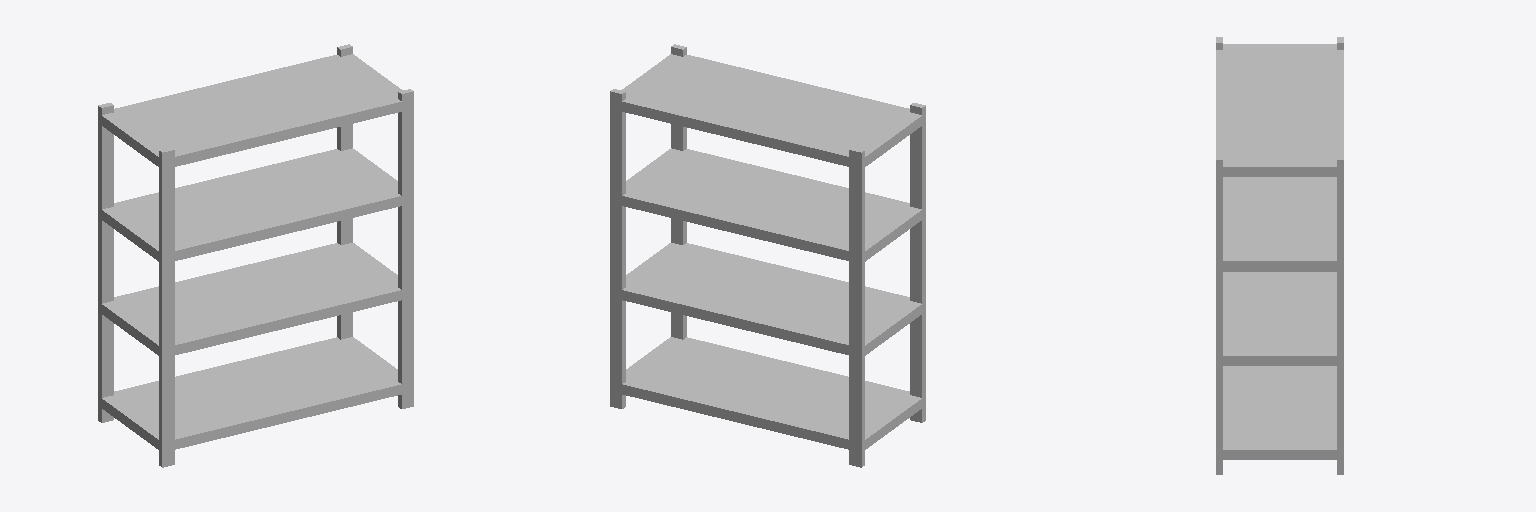
Rendered from sd_prop_shelf.obj.
The picture shows the model from 3 angles: view 1: azimuth 30°, elevation 25°; view 2: azimuth 150°, elevation 25°; view 3: azimuth 270°, elevation 25°; orthographic projection.
Parts seen in each view (by area): view 1: polySurface1; view 2: polySurface1; view 3: polySurface1.
Boxes of the visible parts, box(x1,y1,x2,y2) form: polySurface1: box(98, 44, 413, 467); polySurface1: box(610, 44, 925, 467); polySurface1: box(1216, 37, 1343, 474).
Bounding box in the file's own units: 25.91 × 31 × 11.5.